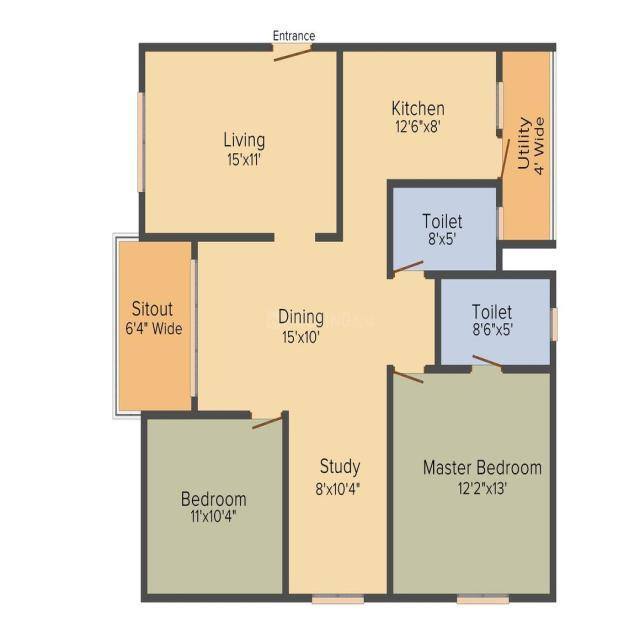Balcony-Sitout: (116, 236, 195, 416)
Bedroom: (146, 420, 282, 594)
Bedroom with Toilet: (388, 271, 556, 604)
Dining: (190, 232, 388, 419)
Enterance-Foyer: (271, 25, 319, 67)
Kitchen: (340, 46, 497, 185)
Living: (142, 46, 340, 239)
Toilet: (441, 278, 550, 363), (391, 189, 494, 270)
Utility: (498, 45, 555, 247)
